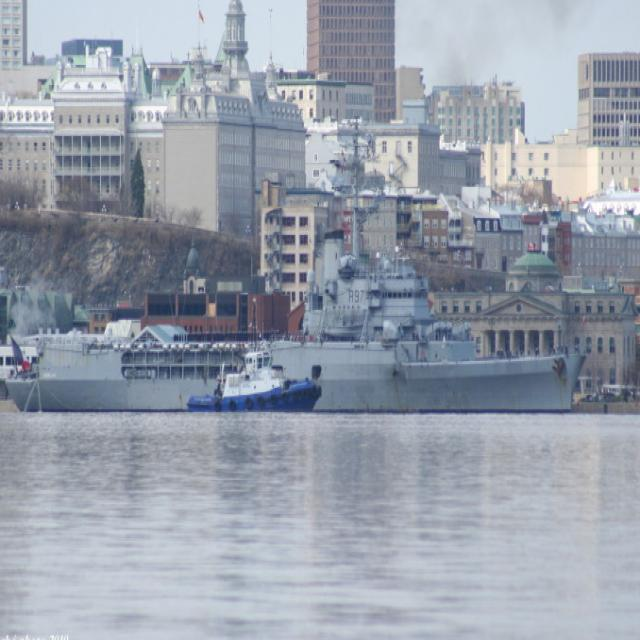Portanaves: (1, 107, 610, 419)
